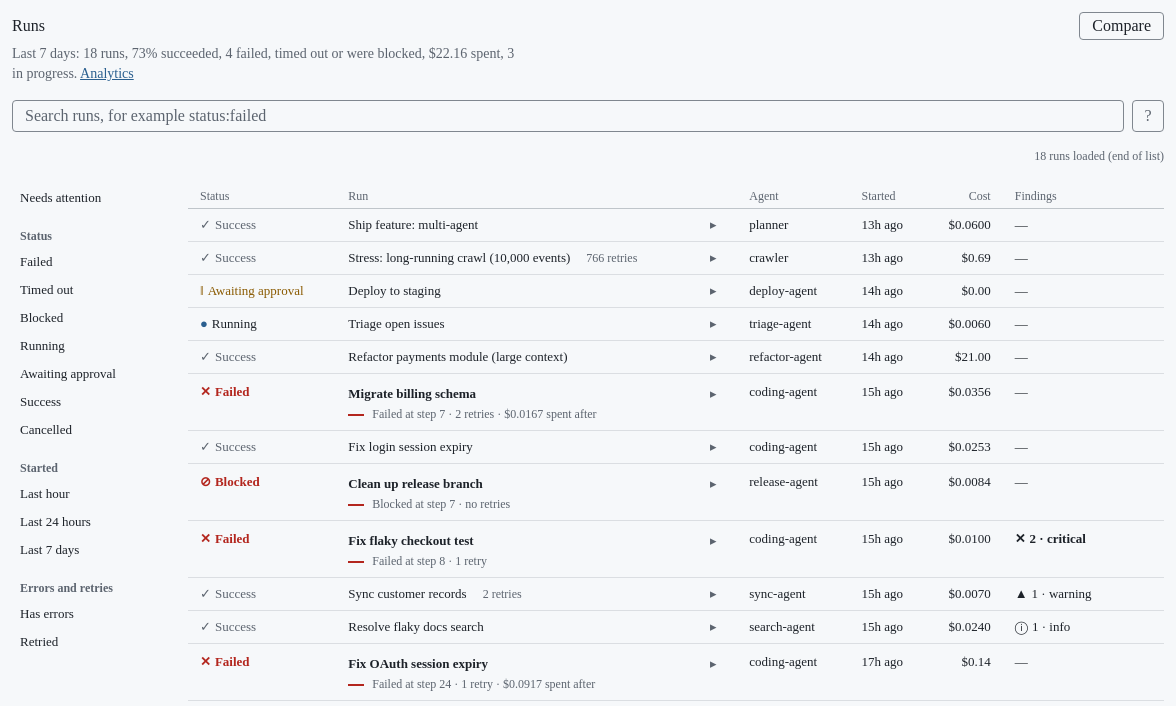
compare selection in the runs list › picks two runs, disables the rest, links to the compare route and clears
Click the button "Compare".
click(1122, 26)  # box left=1079, top=12, right=1164, bottom=40
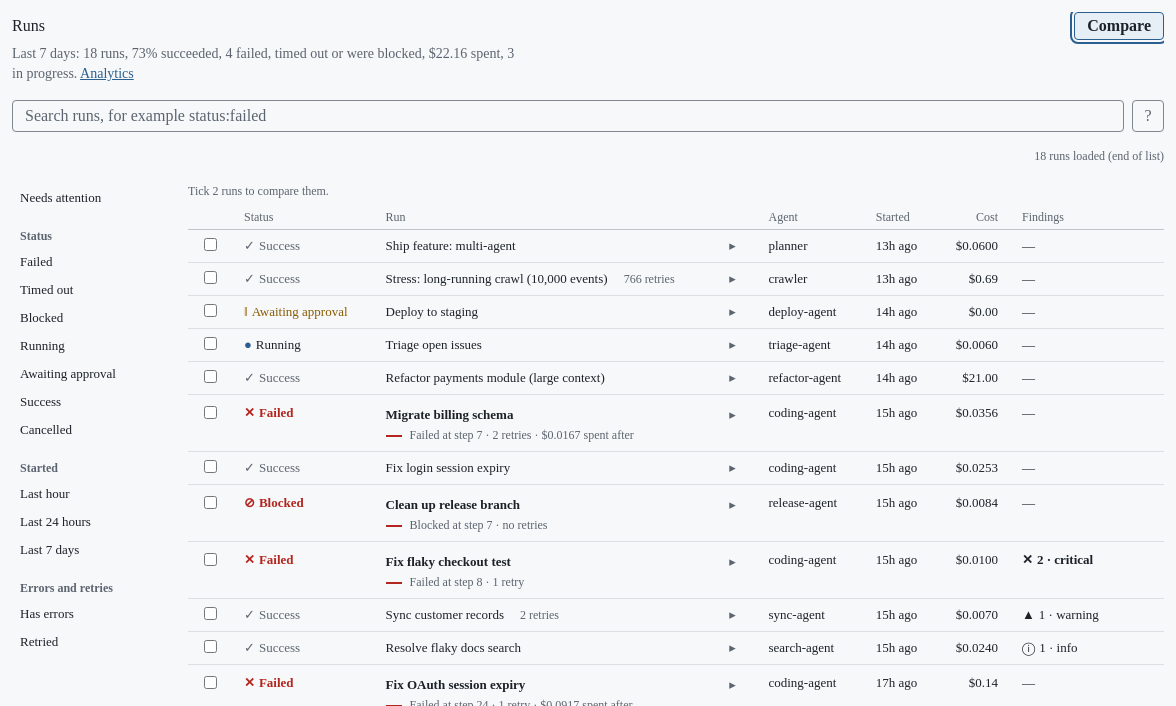
Check: the element with test id "compare-bar" reads "Tick 2 runs to compare them.", box left=188, top=184, right=329, bottom=198
Check: the number of checkboxes named "Compare " is 18
Click the checkbox named "Compare ".
click(210, 244)  # box left=204, top=238, right=217, bottom=251
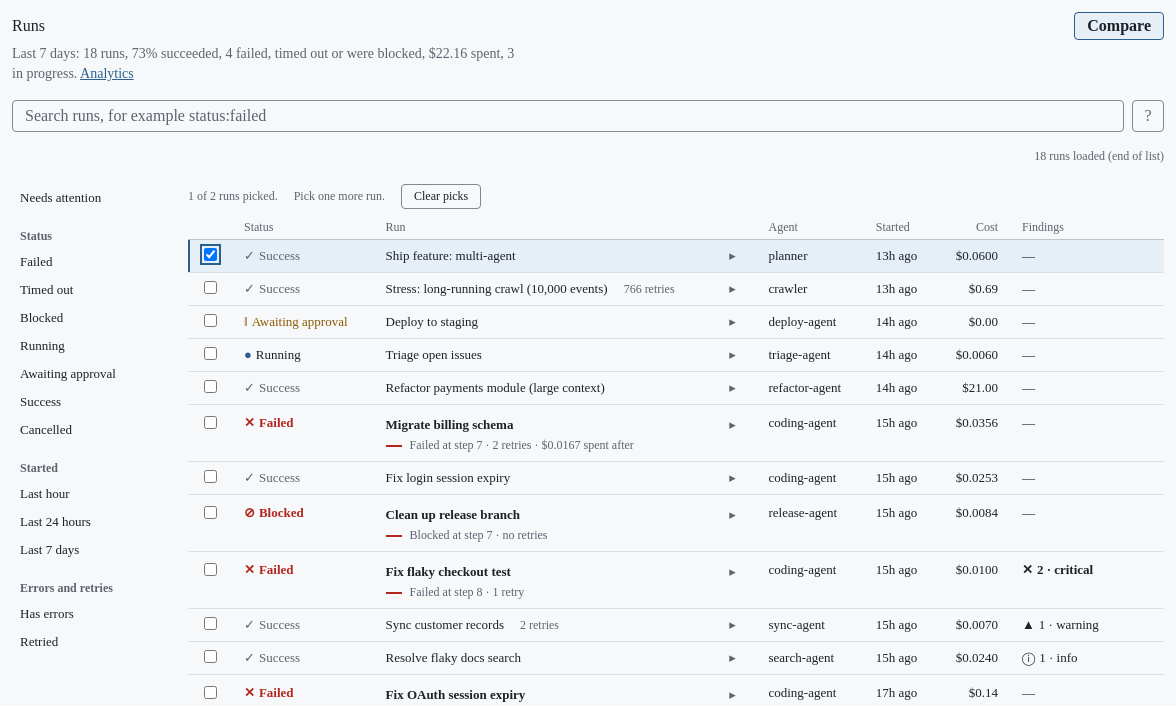
Check: the element with test id "compare-bar" shows "1 of 2 runs picked.", box left=188, top=189, right=278, bottom=203
Click the checkbox named "Compare ".
click(210, 287)  # box left=204, top=281, right=217, bottom=294
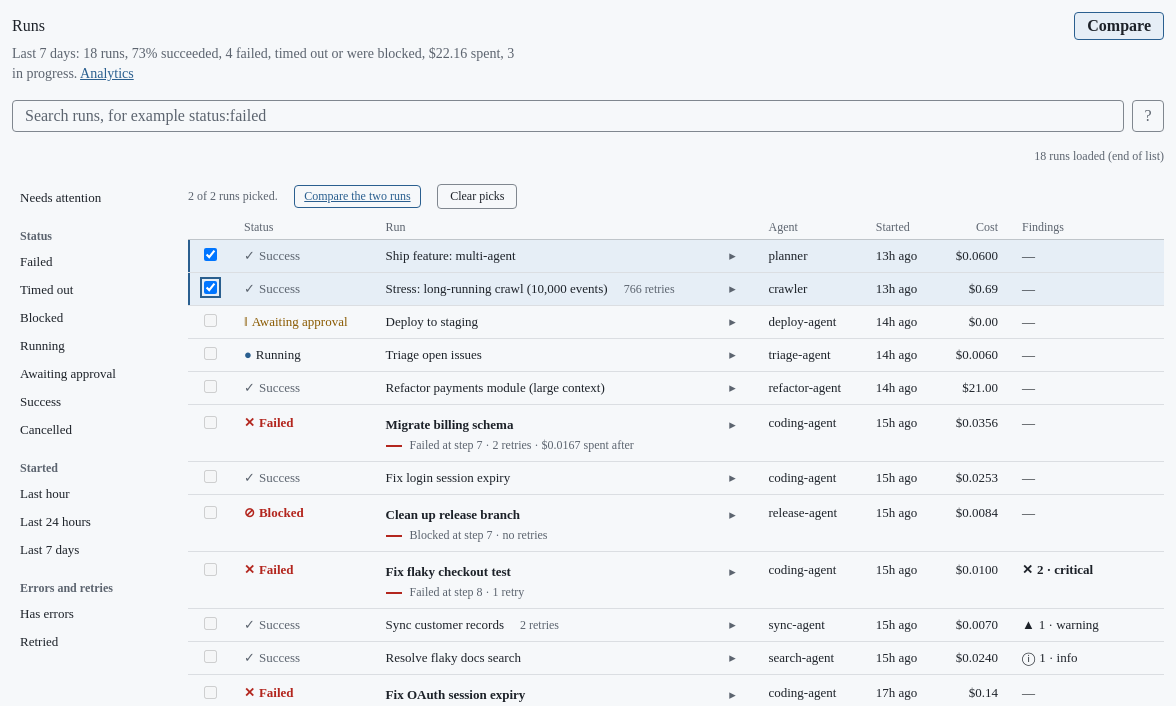
Check: the checkbox named "Compare " is enabled, box left=204, top=248, right=217, bottom=261
Check: the checkbox named "Compare " is disabled, box left=204, top=314, right=217, bottom=327
Click the button "Clear picks".
click(477, 196)  # box left=437, top=184, right=518, bottom=209
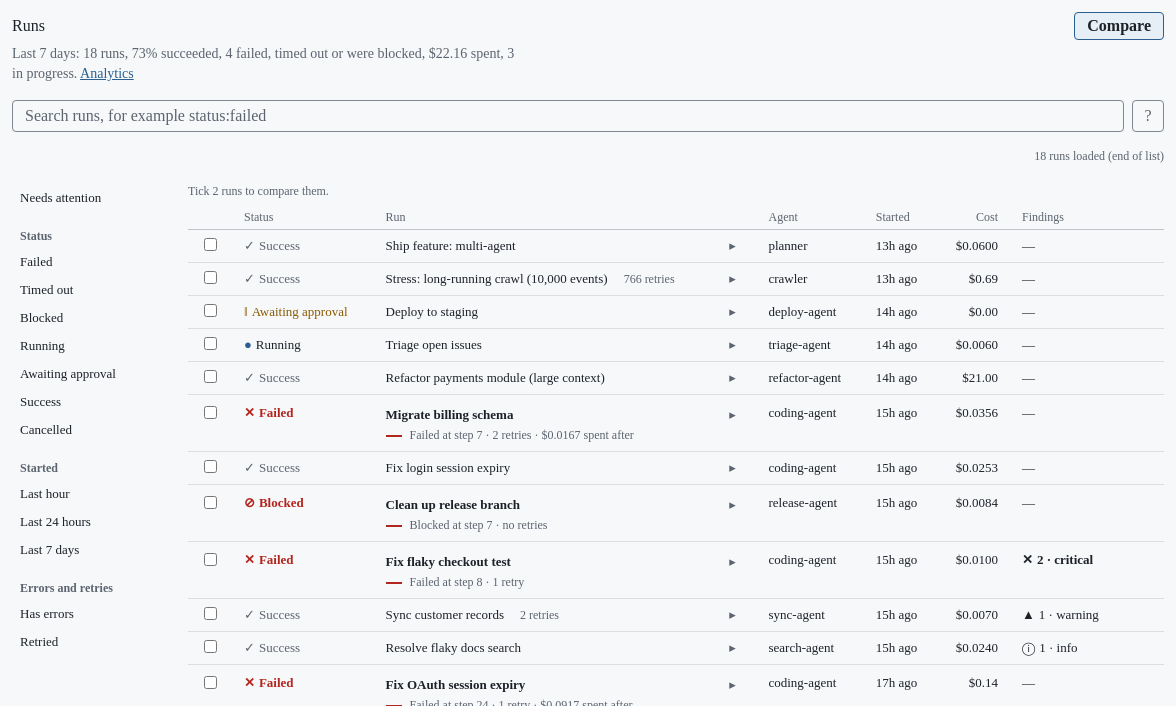
Check: the checkbox named "Compare " is enabled, box left=204, top=304, right=217, bottom=317
Check: the link with test id "compare-link" is gone
